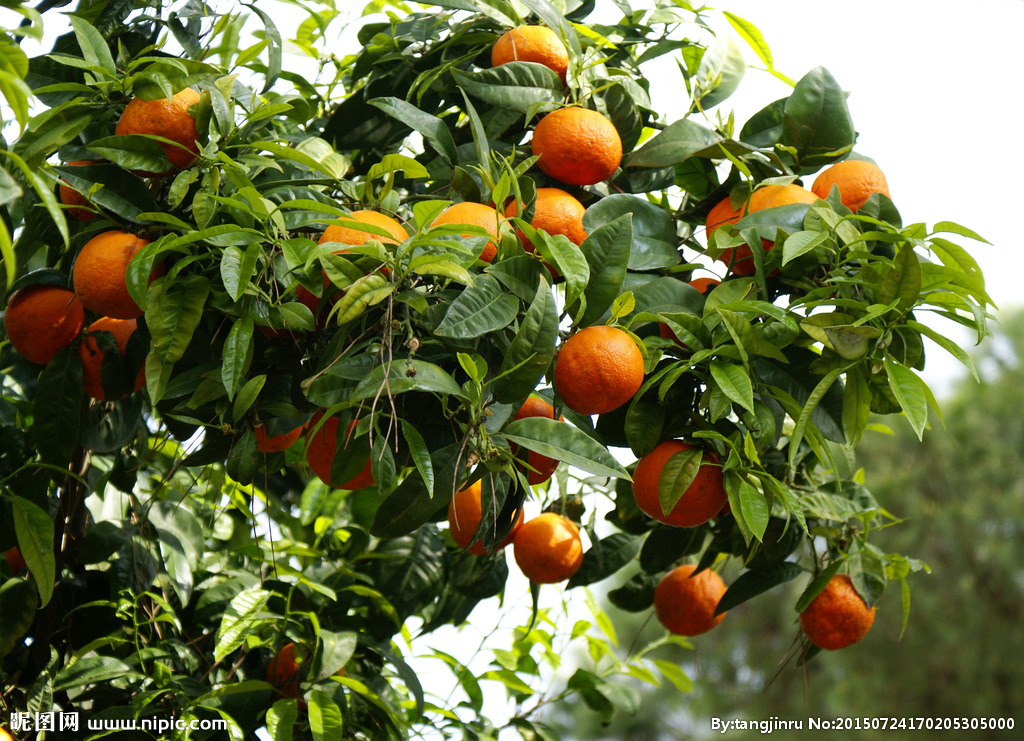orange: (741, 183, 837, 274), (502, 183, 591, 281), (633, 436, 726, 526), (316, 207, 411, 292), (420, 200, 515, 285), (556, 323, 643, 411), (530, 104, 621, 182), (69, 228, 151, 314), (80, 311, 157, 402), (306, 407, 390, 490), (115, 83, 202, 163), (6, 271, 81, 359), (495, 395, 563, 488), (449, 469, 525, 552), (798, 571, 875, 649), (811, 161, 898, 227), (513, 510, 587, 583), (655, 562, 727, 637), (493, 23, 570, 87), (707, 193, 772, 267)
